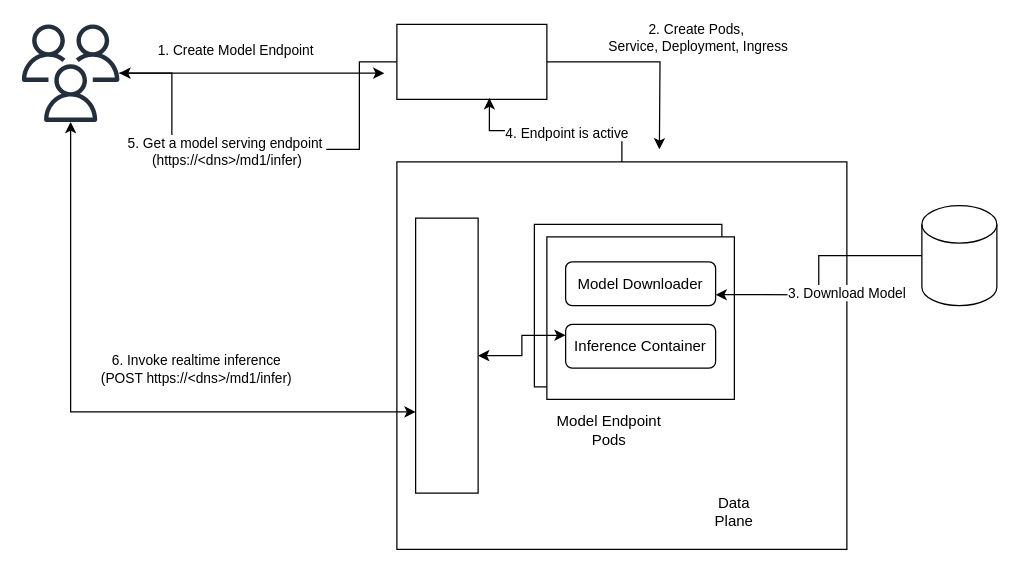
Some shapes in this 1019 by 571 pixel diagram are drawn without their labels. The shapes that lost their labels are listed below. From the top down, each one's centre as x and y in pixels, then its label:
At point 471,61: "Control Plane".
At point 446,355: "Model Router".
